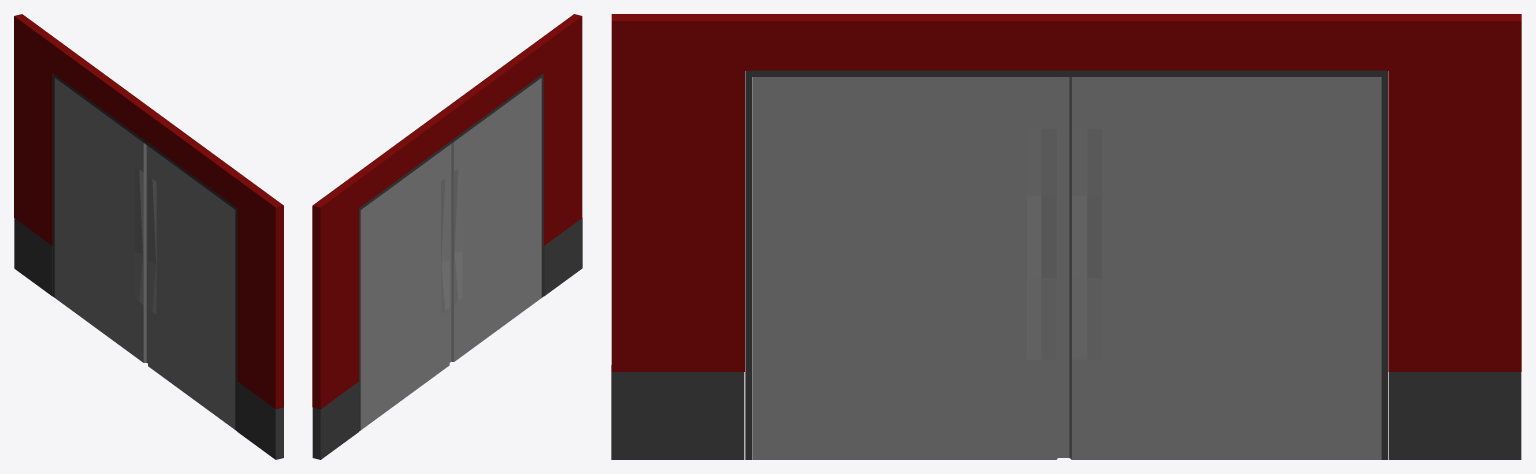
File: jalangkung_wall_door.fbx
3 views of the same model, side by side, from view 1: azimuth 30°, elevation 25°; view 2: azimuth 150°, elevation 25°; view 3: azimuth 270°, elevation 25° (orthographic). The views are drawn at different scales.
Parts seen in each view (by area): view 1: door, wall.001, Cube.001, door.001; view 2: door, wall.001, Cube.001, door.001; view 3: door, wall.001, Cube.001, door.001.
Part boxes in pixels (left/top/right/bottom): door: left=54, top=78, right=235, bottom=429; wall.001: left=14, top=14, right=283, bottom=409; Cube.001: left=14, top=218, right=283, bottom=459; door.001: left=52, top=73, right=237, bottom=430; door: left=360, top=78, right=541, bottom=429; wall.001: left=312, top=14, right=582, bottom=409; Cube.001: left=312, top=218, right=582, bottom=459; door.001: left=359, top=73, right=543, bottom=431; door: left=752, top=77, right=1381, bottom=459; wall.001: left=611, top=14, right=1521, bottom=371; Cube.001: left=611, top=365, right=1521, bottom=459; door.001: left=745, top=70, right=1387, bottom=459.
Size of the model in its own units: 20.65 by 598 by 1125.
